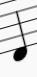D: (11, 1, 30, 63)
